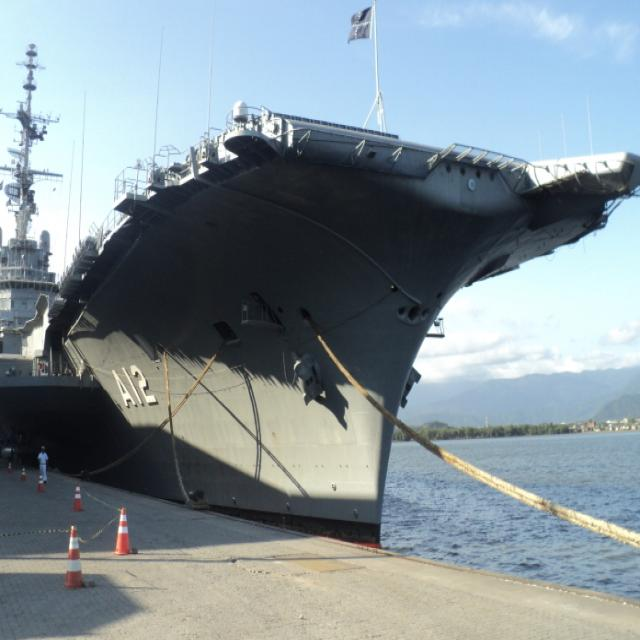Portanaves: (1, 1, 640, 593)
